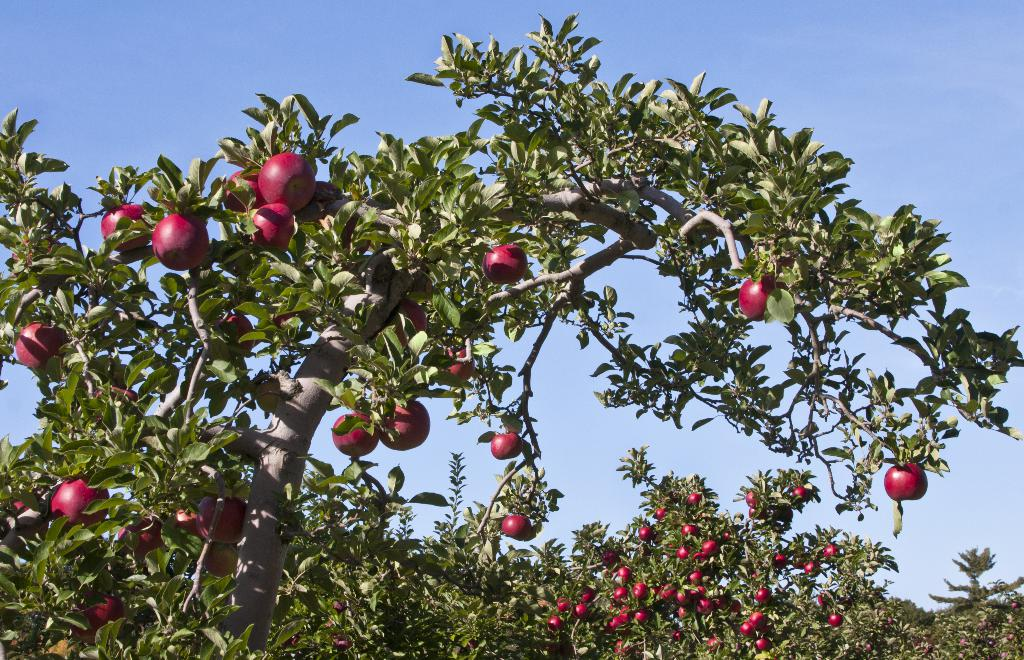Apple: (545, 484, 842, 659), (146, 213, 212, 272), (257, 154, 314, 215), (44, 479, 113, 529), (71, 592, 127, 647), (10, 323, 73, 369), (117, 516, 172, 562), (385, 398, 430, 453), (102, 205, 152, 254), (246, 205, 297, 252), (331, 414, 382, 459), (196, 498, 243, 544), (387, 297, 431, 345), (738, 273, 782, 319), (482, 243, 529, 286), (881, 464, 926, 504), (221, 170, 257, 214), (200, 542, 238, 578), (443, 345, 476, 382), (487, 432, 524, 461), (176, 505, 199, 542), (499, 516, 528, 537), (12, 496, 28, 510)
